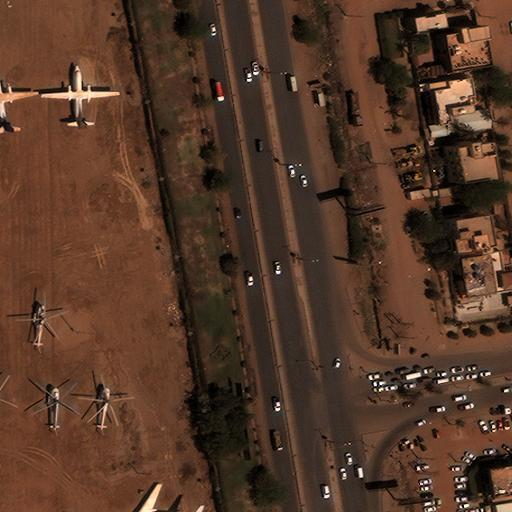Military Transport: (41, 63, 120, 128), (0, 73, 38, 132), (116, 483, 190, 512)
